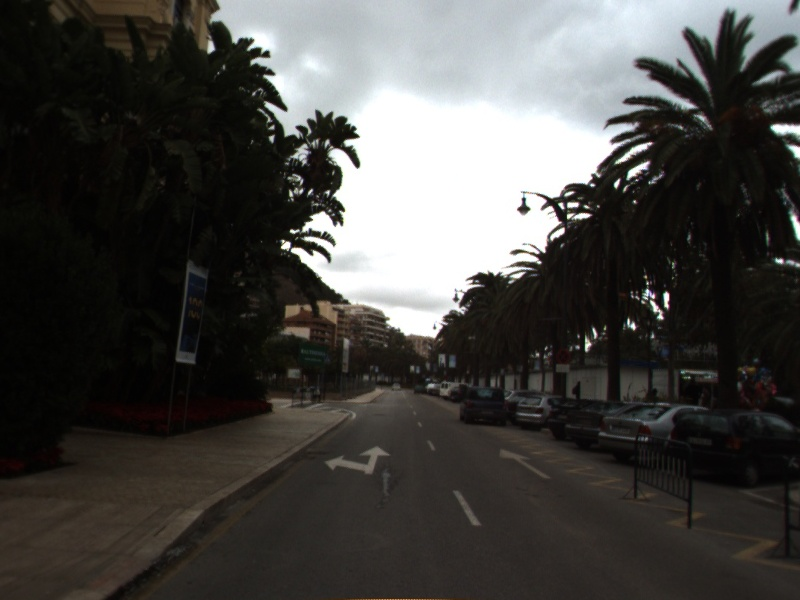STRAIGHT: (497, 446, 554, 480)
STRAIGHT_LEFT: (322, 443, 394, 476)
